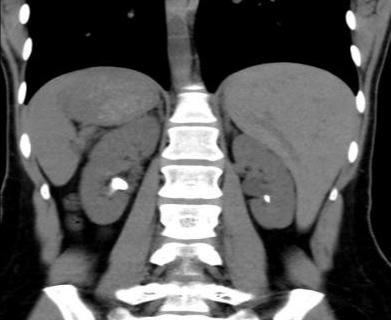Tas_Var: (106, 176, 129, 192), (259, 194, 274, 204)
